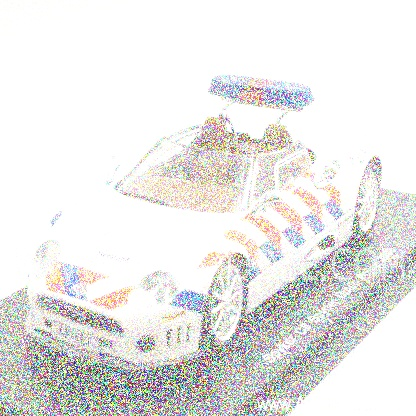Vehicle: (24, 73, 384, 372)
